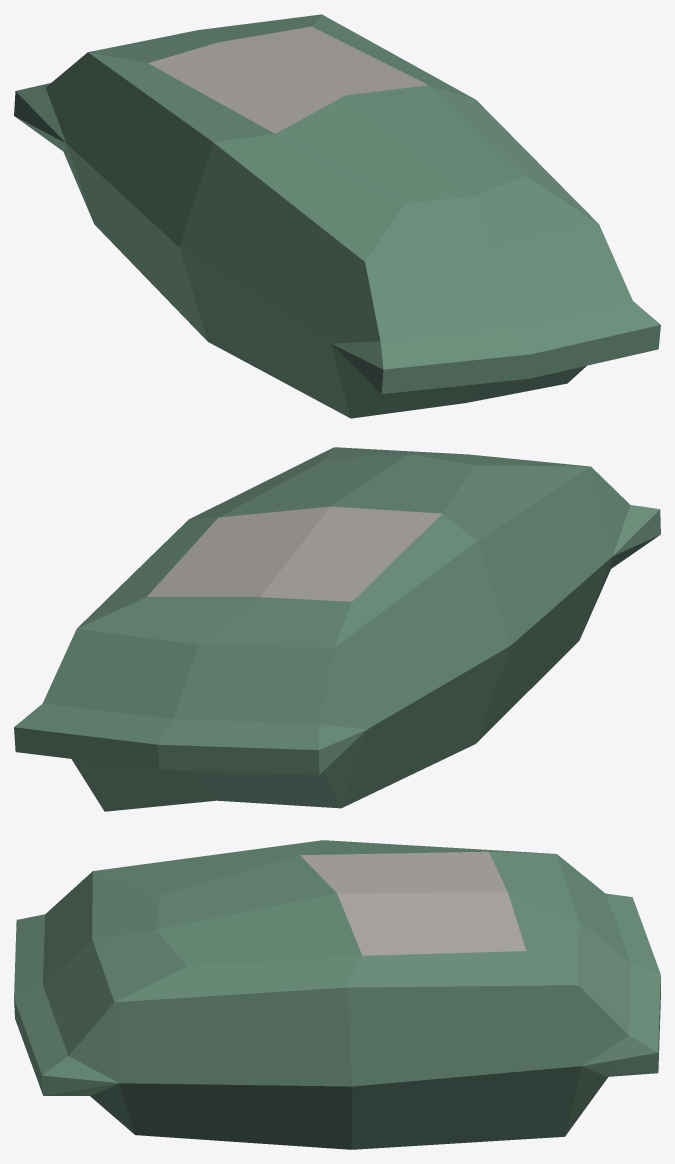
The model's file is SM_Prop_Snack_04.fbx.
3 views of the same model, one above another, from view 1: azimuth 30°, elevation 25°; view 2: azimuth 150°, elevation 25°; view 3: azimuth 270°, elevation 25° (orthographic). The views are drawn at different scales.
Visible parts, largest first — view 1: SM_Prop_Snack_04; view 2: SM_Prop_Snack_04; view 3: SM_Prop_Snack_04.
Boxes of the visible parts, x1,y1,x2,y2 form: SM_Prop_Snack_04: (14, 14, 660, 418); SM_Prop_Snack_04: (14, 447, 660, 811); SM_Prop_Snack_04: (14, 840, 660, 1149).
Bounding box in the file's own units: 10.66 × 7.96 × 20.81.
